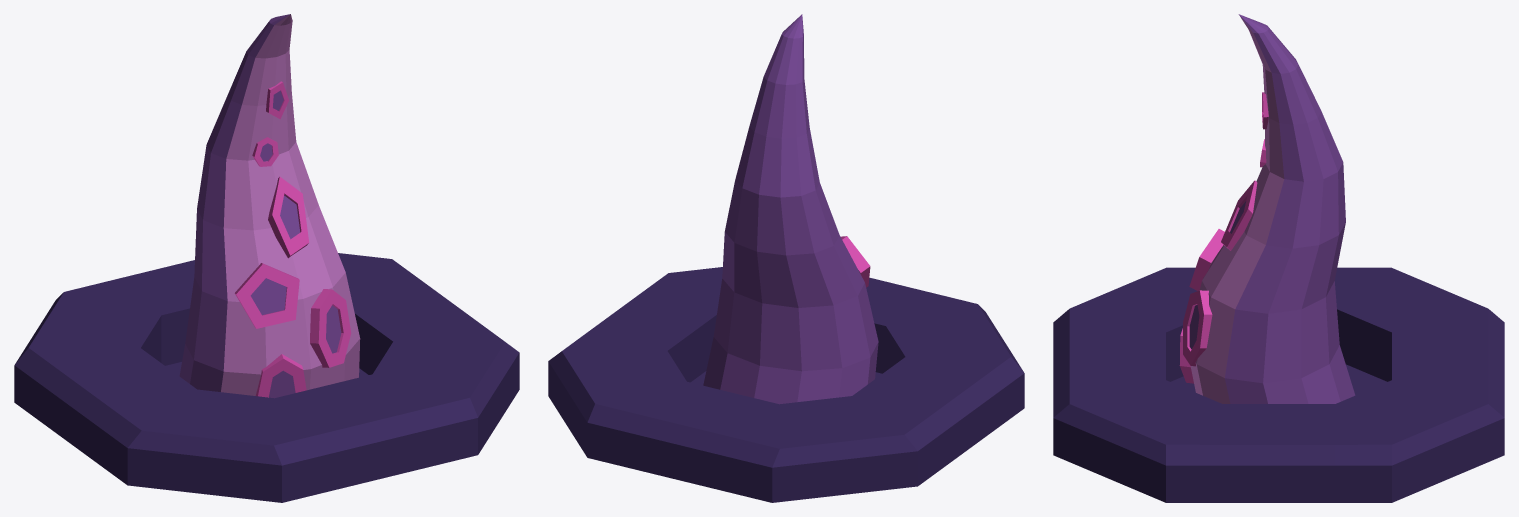
Rendered from low_poly_tentacle.glb.
3 renders of one model, left to right at view 1: azimuth 30°, elevation 25°; view 2: azimuth 150°, elevation 25°; view 3: azimuth 270°, elevation 25°, orthographic. The views are drawn at different scales.
Parts seen in each view (by area): view 1: base, tentkol, succ; view 2: base, tentkol; view 3: base, tentkol, succ.
Boxes of the visible parts, x1,y1,x2,y2 form: base: (14, 253, 519, 502); tentkol: (179, 14, 360, 395); succ: (234, 81, 351, 398); base: (548, 267, 1024, 502); tentkol: (703, 14, 878, 404); base: (1053, 267, 1504, 502); tentkol: (1190, 14, 1355, 403); succ: (1179, 92, 1268, 383).
Size of the model in its own units: 563 by 544 by 563.
Materials: 1 (1 with a texture image).
